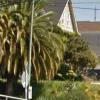Tree: (4, 2, 69, 86)
